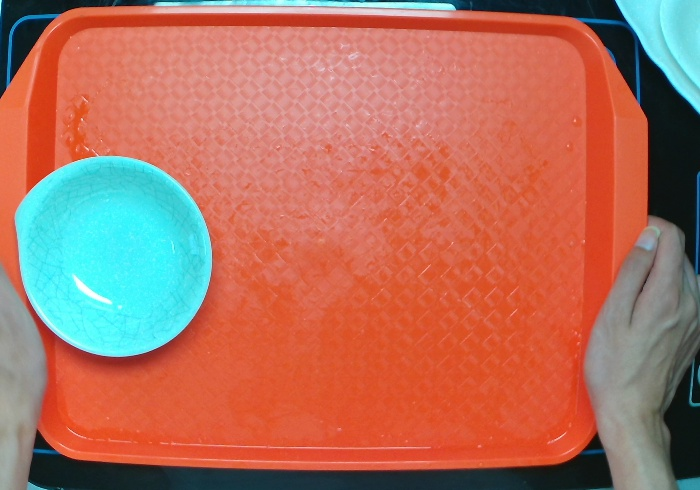RJxy-Xiao_Jiao_Yuan_Wan: (8, 148, 217, 363)
